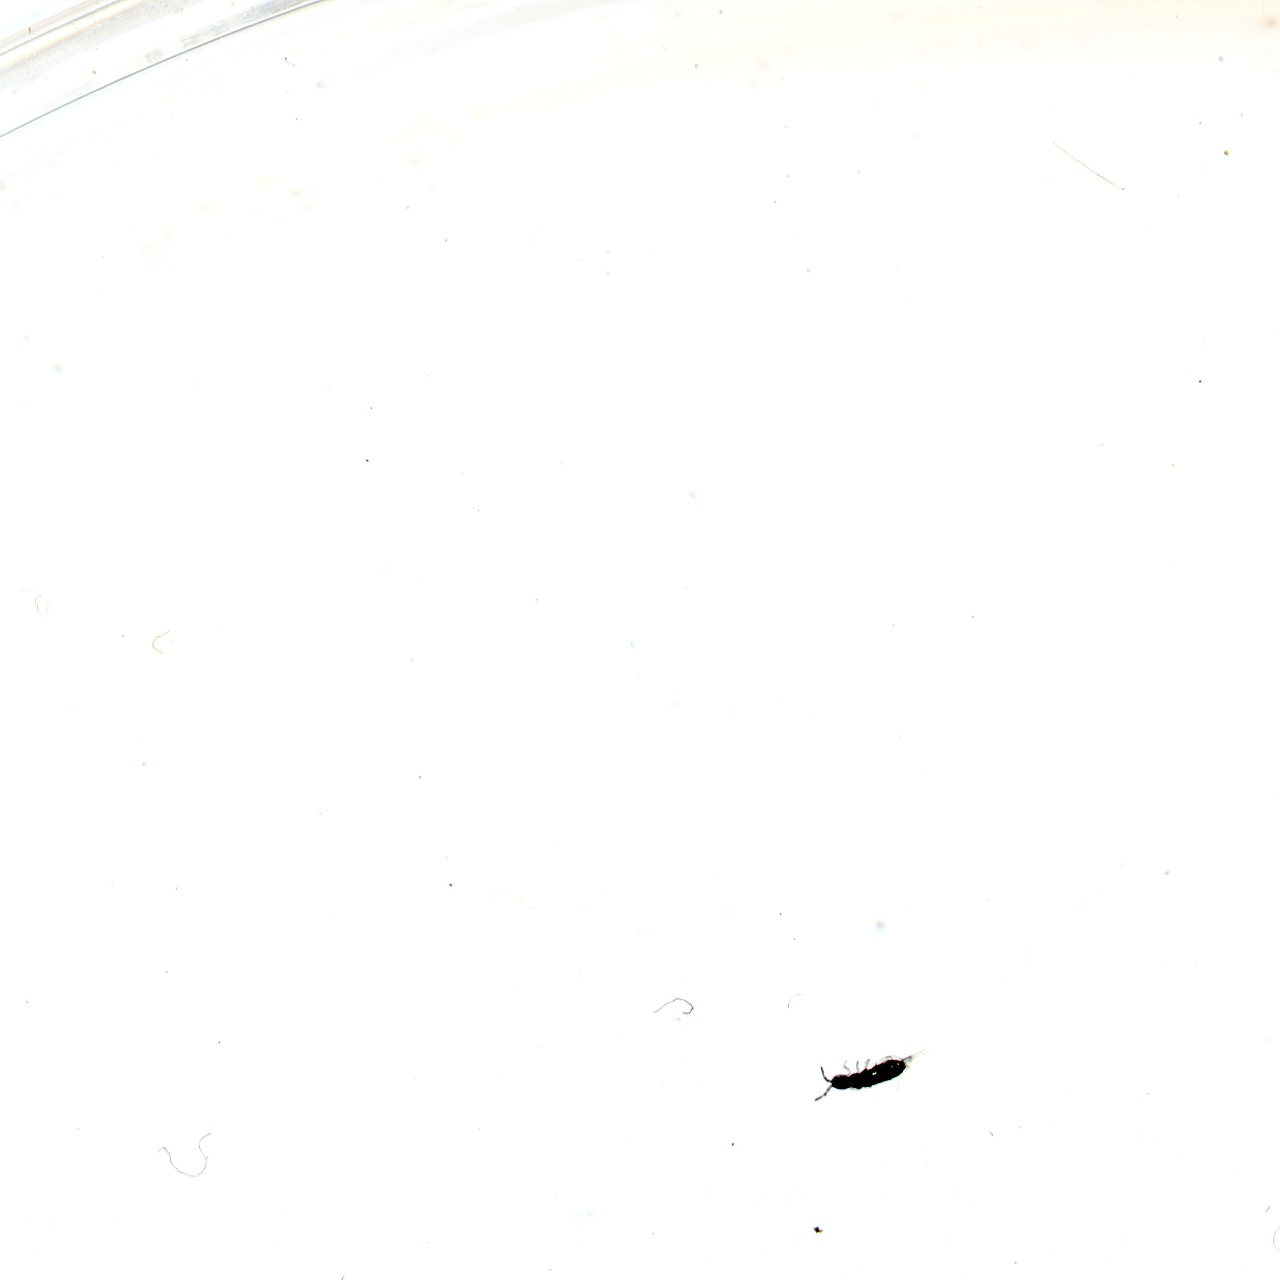arthropod: (800, 1028, 950, 1114), (317, 1253, 423, 1280)
